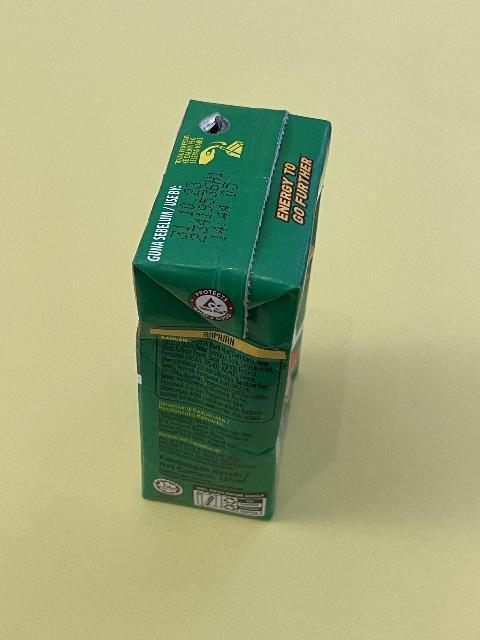drinkpack: (130, 96, 334, 528)
